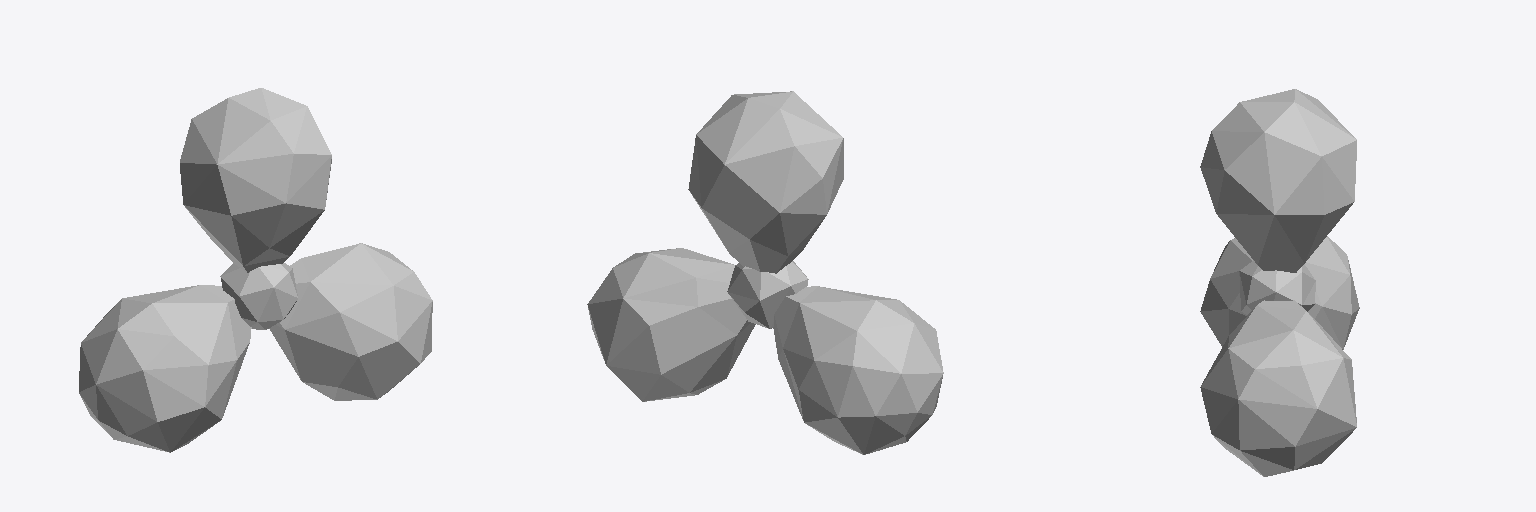
File: whitebloodcell_3triangle.obj
The picture shows the model from 3 angles: view 1: azimuth 30°, elevation 25°; view 2: azimuth 150°, elevation 25°; view 3: azimuth 270°, elevation 25°; orthographic projection.
Visible parts, largest first — view 1: Sphere.002, Sphere.001, Sphere.000, Sphere; view 2: Sphere.002, Sphere.001, Sphere.000, Sphere; view 3: Sphere.001, Sphere.000, Sphere.002, Sphere.
Boxes of the visible parts, <box> form: Sphere.002: <box>79,285,251,452</box>; Sphere.001: <box>180,88,331,272</box>; Sphere.000: <box>269,243,432,400</box>; Sphere: <box>220,263,297,329</box>; Sphere.002: <box>773,286,943,454</box>; Sphere.001: <box>688,91,843,273</box>; Sphere.000: <box>587,248,755,401</box>; Sphere: <box>727,261,808,328</box>; Sphere.001: <box>1200,89,1356,272</box>; Sphere.000: <box>1200,300,1356,476</box>; Sphere.002: <box>1200,236,1359,349</box>; Sphere: <box>1239,260,1315,314</box>.
Size of the model in its own units: 4.94 by 4.5 by 2.03.